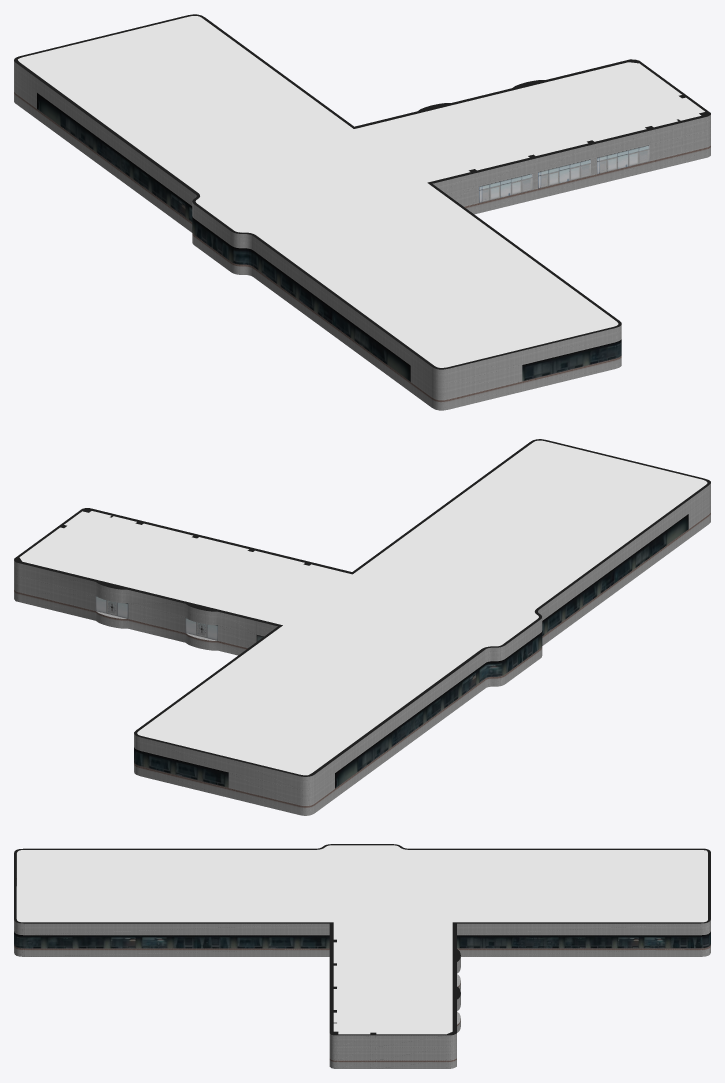
3 renders of one model, top to bottom at view 1: azimuth 30°, elevation 25°; view 2: azimuth 150°, elevation 25°; view 3: azimuth 270°, elevation 25°, orthographic. The views are drawn at different scales.
Visible parts, largest first — view 1: M_SUNGSIM0001F09F09_ISCL_0000001, M_SUNGSIM0001F09F09_ISWL_0000001, M_SUNGSIM0001F09F09_ISWD_0000004, M_SUNGSIM0001F09F09_ISWD_0000006, M_SUNGSIM0001F09F09_ISWD_0000007, M_SUNGSIM0001F09F09_ISWD_0000008, M_SUNGSIM0001F09F09_ISWD_0000005; view 2: M_SUNGSIM0001F09F09_ISCL_0000001, M_SUNGSIM0001F09F09_ISWL_0000001, M_SUNGSIM0001F09F09_ISWD_0000004, M_SUNGSIM0001F09F09_ISWD_0000006; view 3: M_SUNGSIM0001F09F09_ISCL_0000001, M_SUNGSIM0001F09F09_ISWL_0000001, M_SUNGSIM0001F09F09_ISWD_0000006.
Boxes of the visible parts, x1,y1,x2,y2 form: M_SUNGSIM0001F09F09_ISCL_0000001: (18, 16, 704, 367); M_SUNGSIM0001F09F09_ISWL_0000001: (14, 14, 710, 410); M_SUNGSIM0001F09F09_ISWD_0000004: (37, 93, 410, 381); M_SUNGSIM0001F09F09_ISWD_0000006: (522, 339, 621, 381); M_SUNGSIM0001F09F09_ISWD_0000007: (479, 174, 532, 202); M_SUNGSIM0001F09F09_ISWD_0000008: (538, 159, 590, 188); M_SUNGSIM0001F09F09_ISWD_0000005: (597, 145, 649, 174); M_SUNGSIM0001F09F09_ISCL_0000001: (19, 440, 707, 775); M_SUNGSIM0001F09F09_ISWL_0000001: (14, 439, 710, 815); M_SUNGSIM0001F09F09_ISWD_0000004: (335, 514, 688, 788); M_SUNGSIM0001F09F09_ISWD_0000006: (134, 747, 228, 787); M_SUNGSIM0001F09F09_ISCL_0000001: (17, 845, 707, 1034); M_SUNGSIM0001F09F09_ISWL_0000001: (14, 844, 710, 1068); M_SUNGSIM0001F09F09_ISWD_0000006: (14, 931, 710, 948).
Bounding box in the file's own units: 49.14 × 4 × 75.62.
7 materials, 7 textured.
